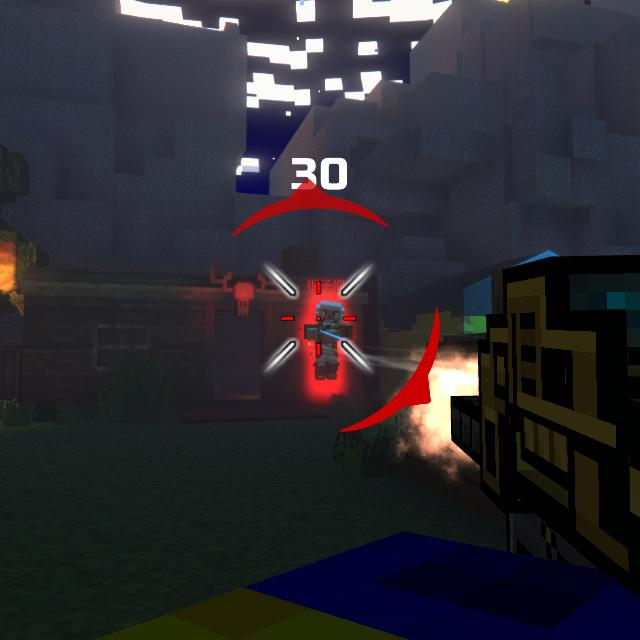Enemy: (302, 302, 352, 382)
